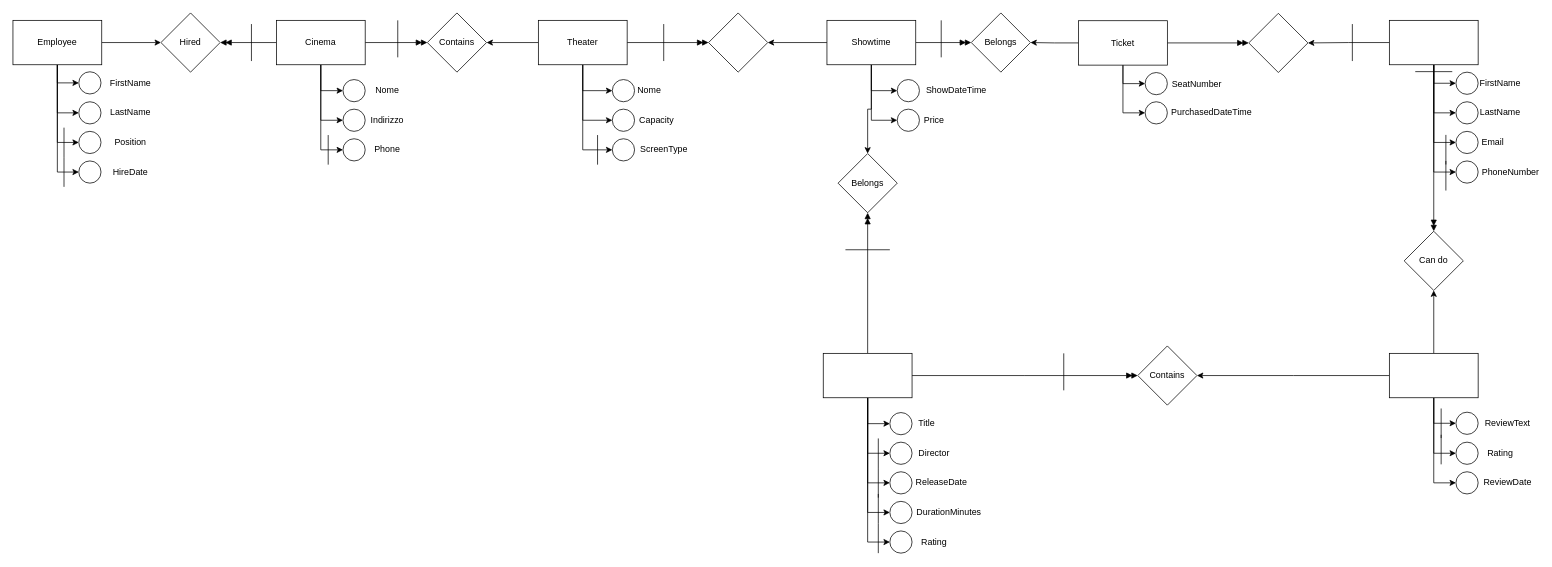
Some shapes in this 1552 by 567 pixel diagram are drawn without their labels. The shapes that lost their labels are listed below. From the top down, each one's box as (x1, y1, x2, y2) in pixels, then its label:
(708, 12, 768, 72): Projects
(1248, 13, 1308, 73): Bought
(1389, 20, 1478, 65): Customer
(823, 353, 912, 398): Movie
(1389, 353, 1478, 398): Review
